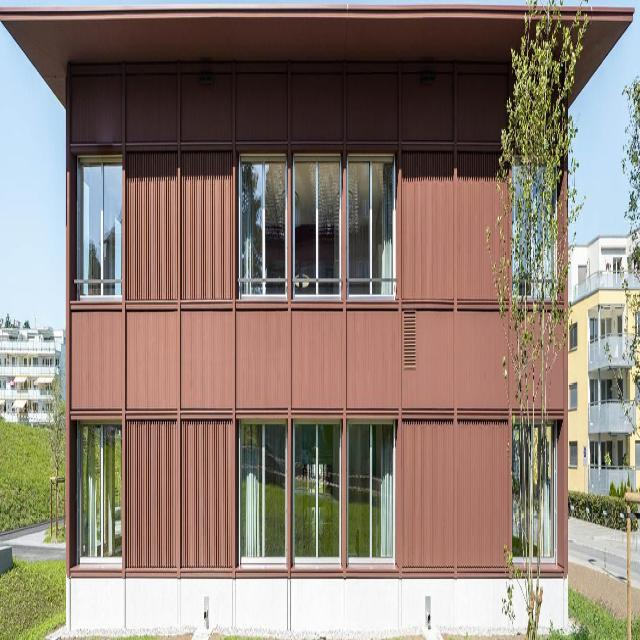window: (292, 147, 341, 294), (239, 150, 288, 296), (292, 422, 341, 568), (239, 416, 288, 562), (347, 151, 395, 300), (347, 414, 395, 562), (77, 152, 123, 297), (77, 422, 123, 567)
